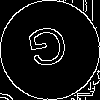G: (25, 25, 72, 77)
